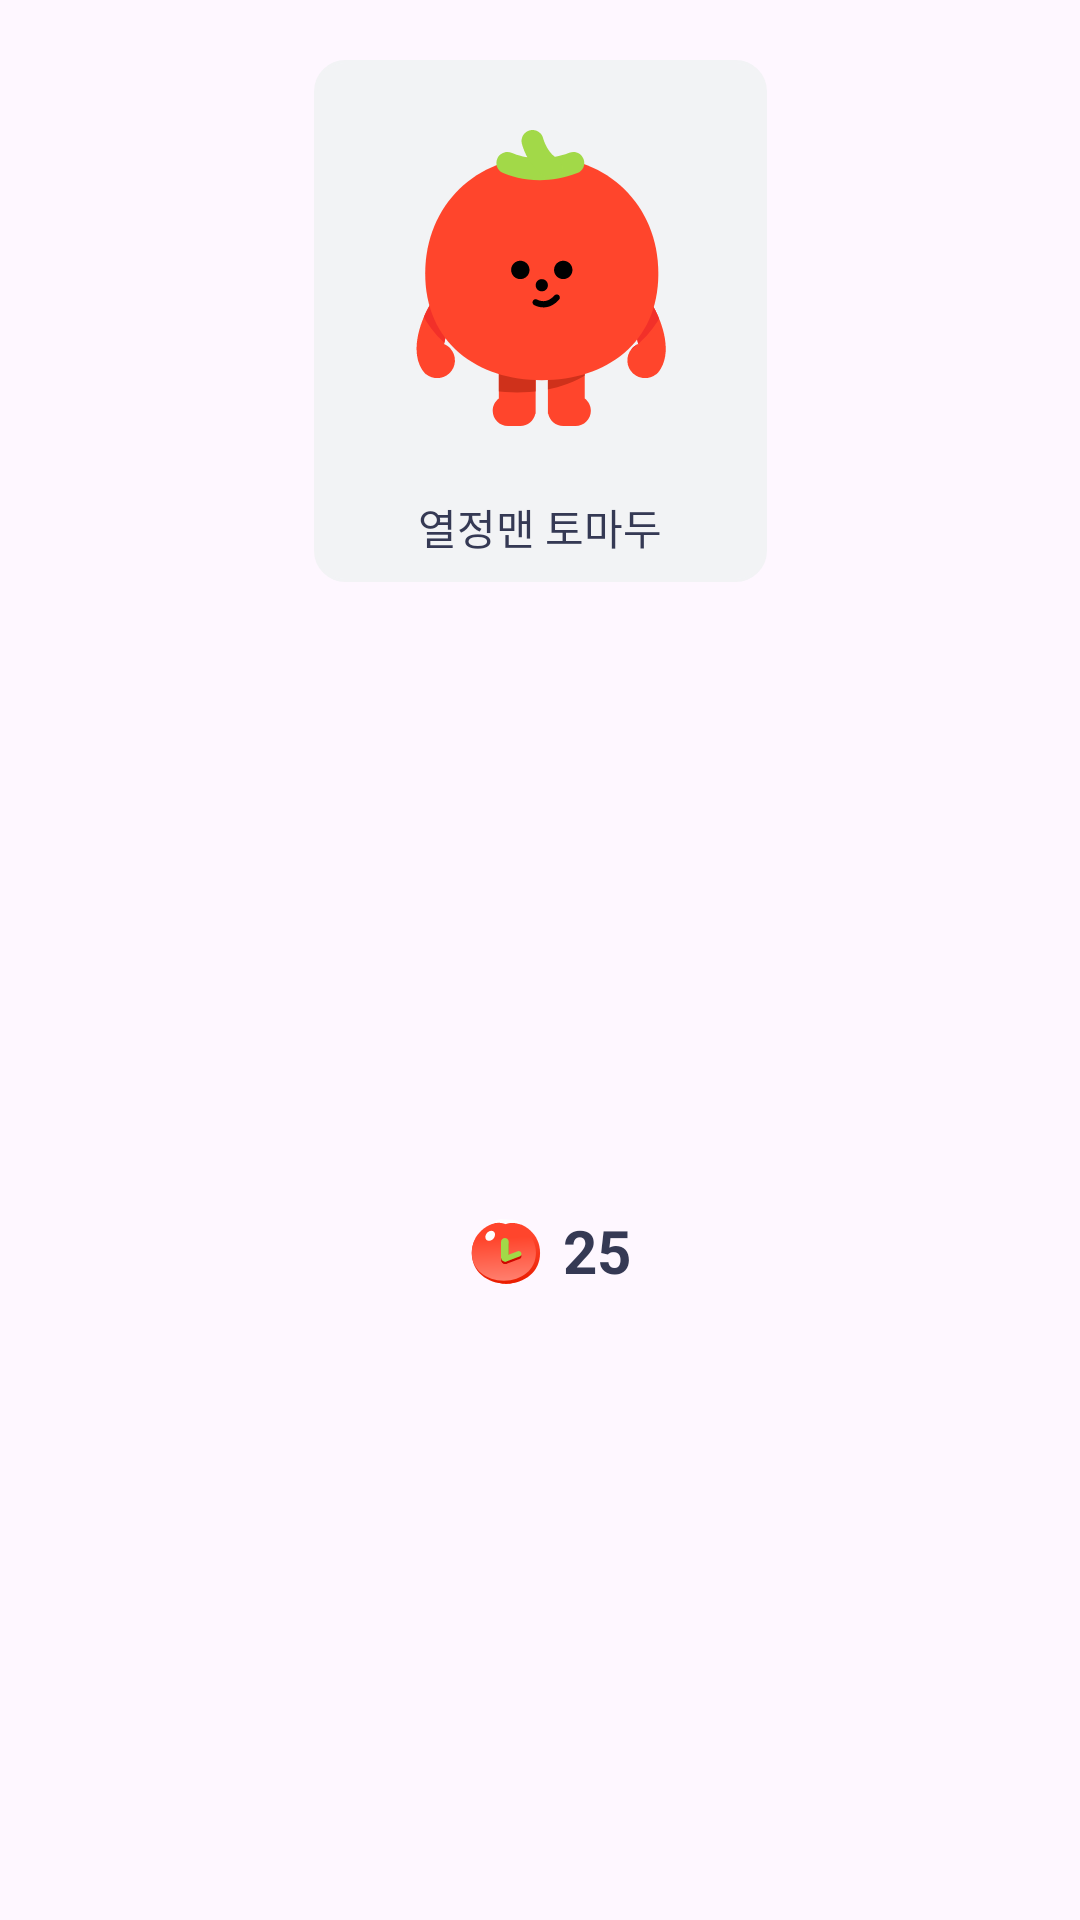

Named icons in this screenshot (1080 x 1920) and their centers, (x=x, y=y):
profile: (x=541, y=278)
